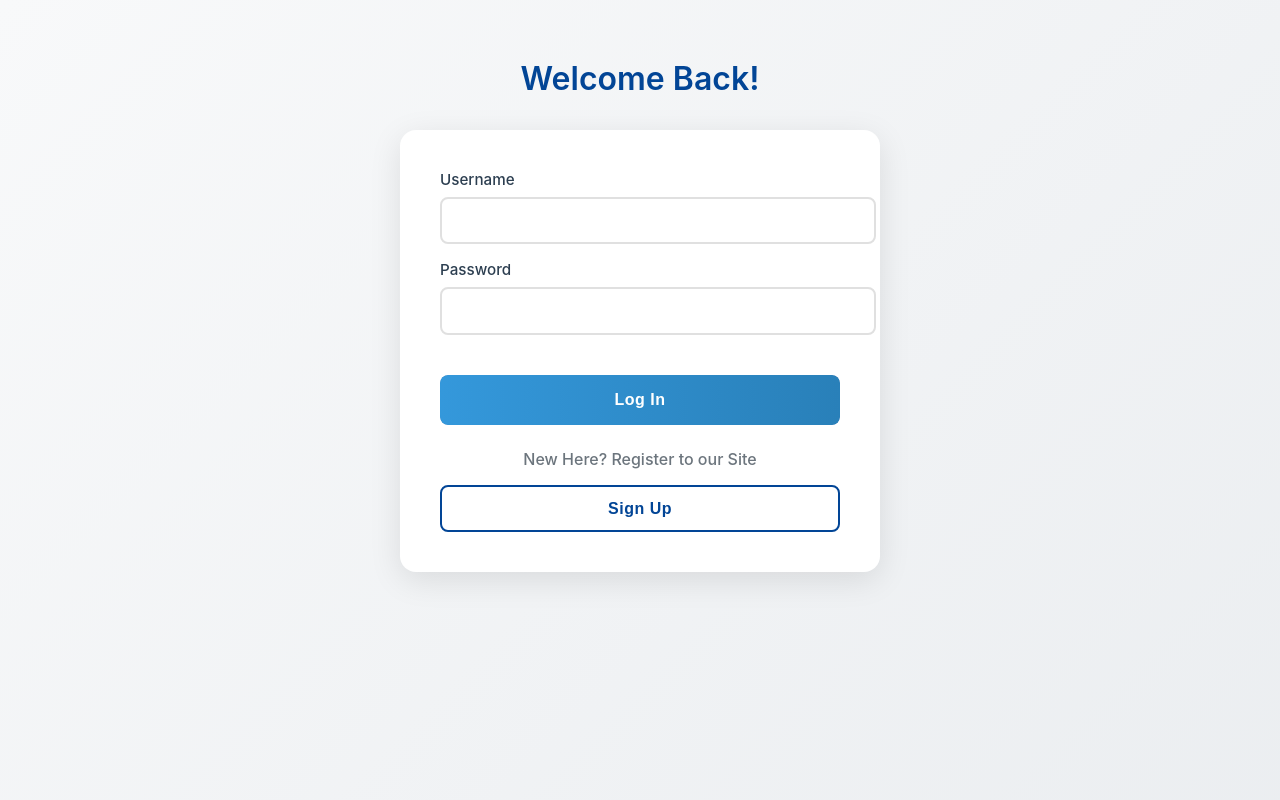
Login Component › shows error when login fails
Type "testuser" into the field labelled "Username" at x=658, y=220, box [440,196,876,244]
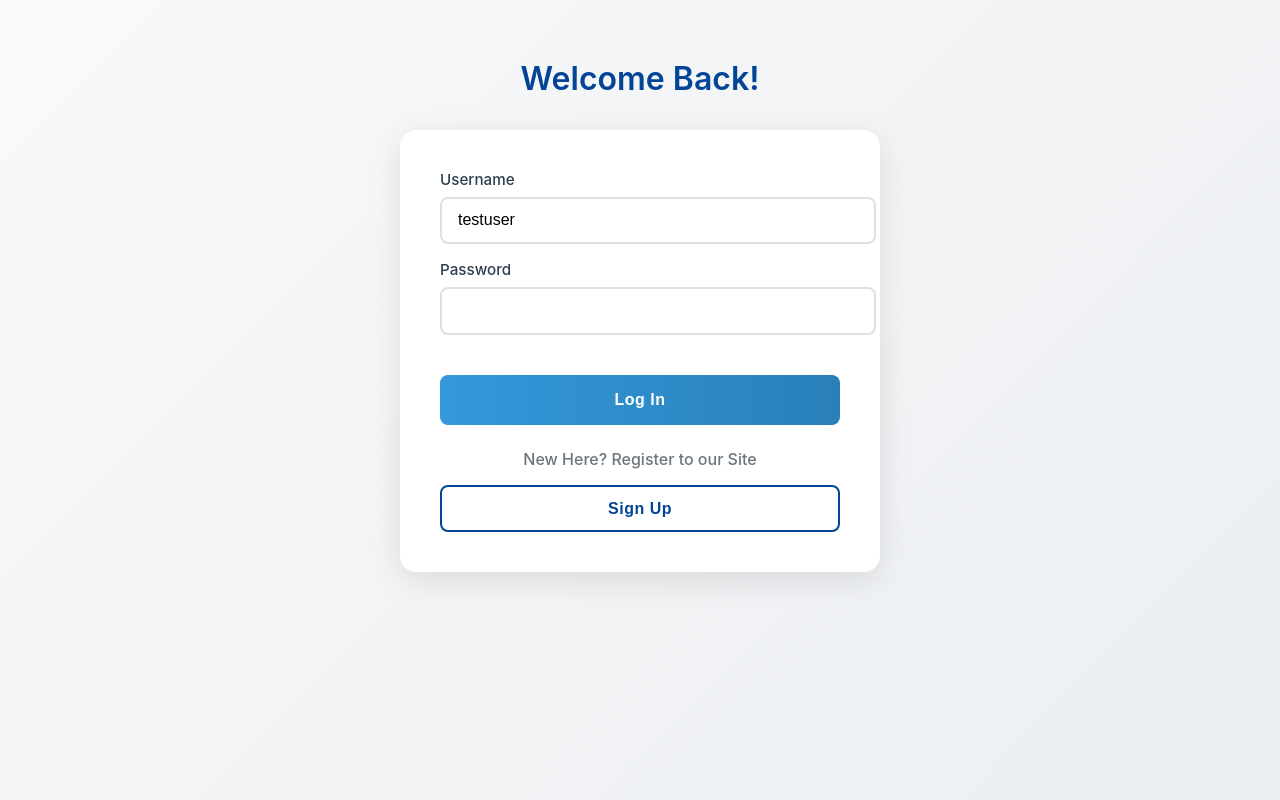
Type "wrongpassword" into the password field labelled "Password" at x=658, y=311, box [440,287,876,335]
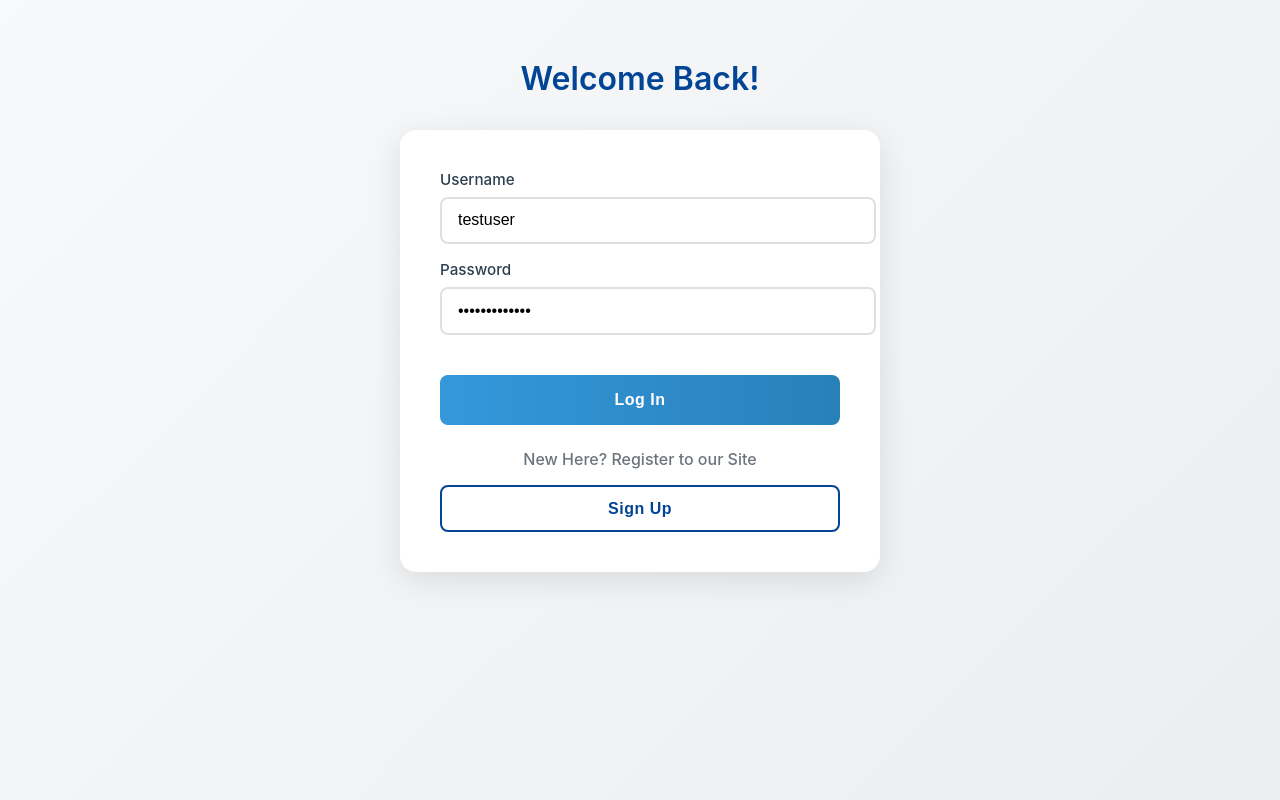
Click the button "Log In" at x=640, y=400, box [440,375,840,425]
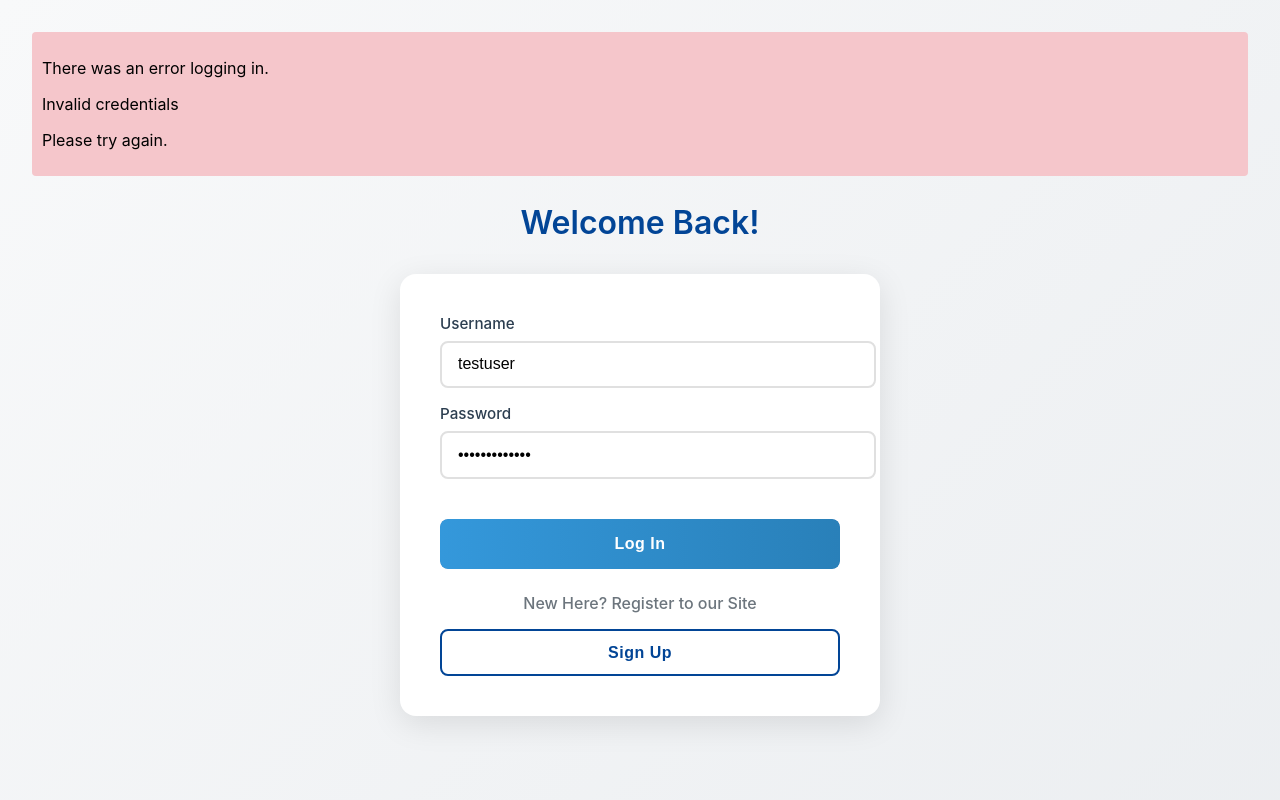
Check: the text "Invalid credentials" is shown, box [42,94,179,114]
